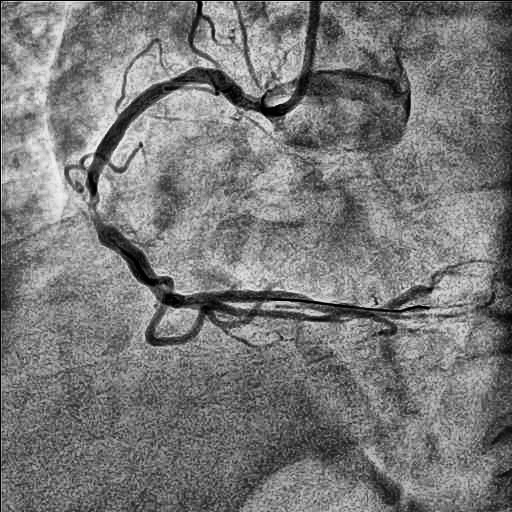pborca: (210, 290, 327, 312)
pda: (199, 300, 325, 321)
rca: (87, 67, 261, 309)
